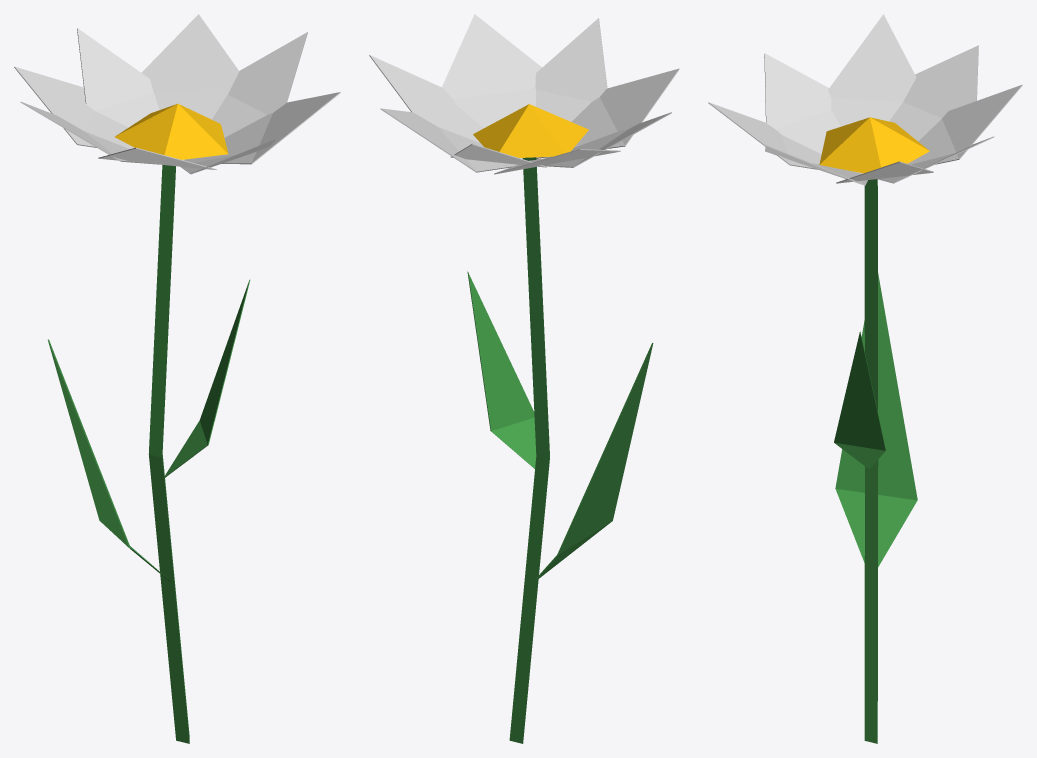
The model's file is white_flower1.obj.
The picture shows the model from 3 angles, left to right: view 1: azimuth 30°, elevation 25°; view 2: azimuth 150°, elevation 25°; view 3: azimuth 270°, elevation 25°; orthographic projection. The views are drawn at different scales.
Bounding box in the file's own units: 1.45 × 3.15 × 1.38.
